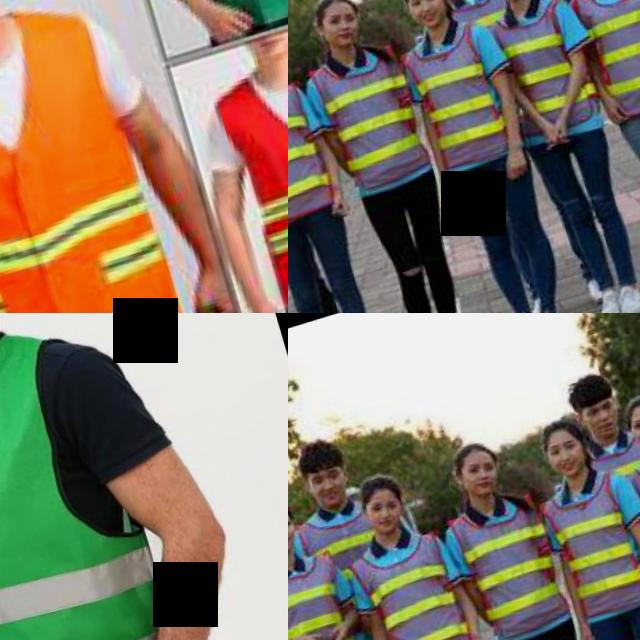vest: (0, 324, 191, 640), (0, 0, 183, 313), (199, 49, 288, 313), (393, 30, 519, 183), (485, 2, 603, 156), (531, 478, 640, 632), (313, 57, 428, 186), (452, 506, 567, 635), (355, 537, 478, 640), (574, 0, 640, 138), (288, 551, 366, 640), (288, 88, 339, 221)
